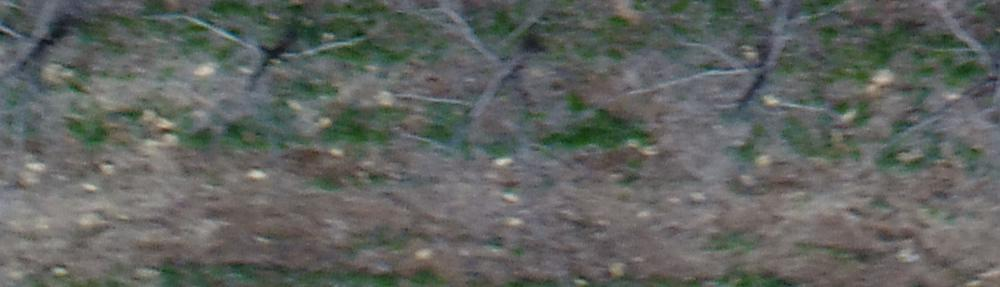apple: (628, 10, 877, 162), (402, 10, 611, 169), (157, 10, 382, 114), (10, 10, 121, 165)
